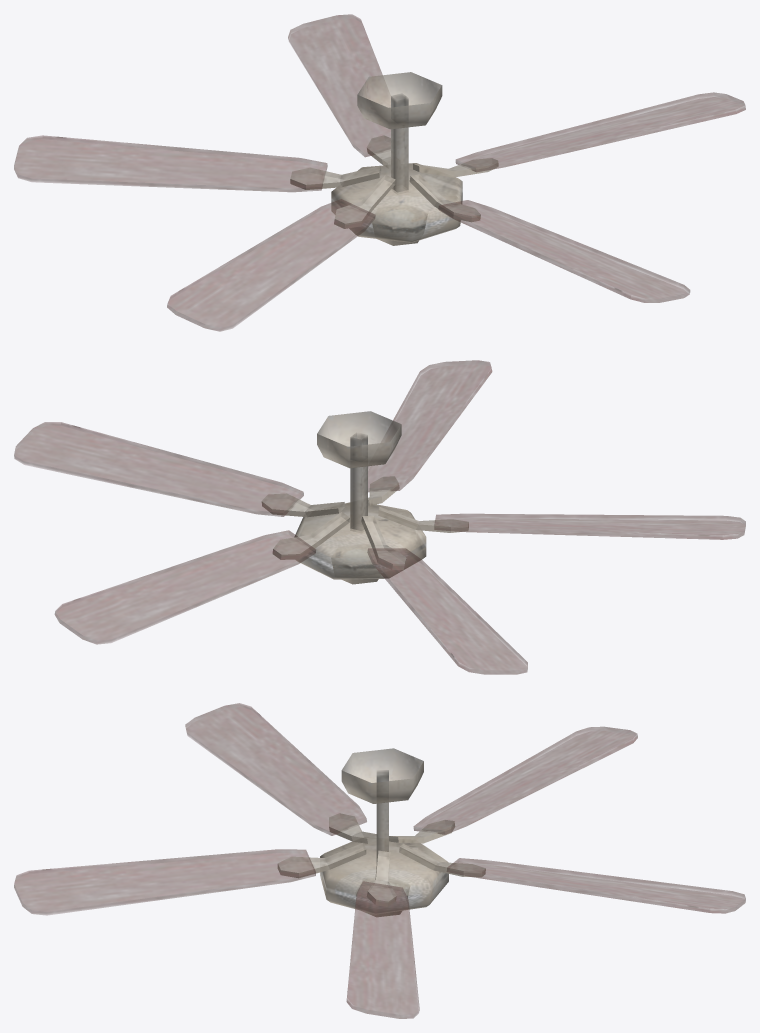
The model's file is Ceiling_Fan.glb.
3 views of the same model, one above another, from view 1: azimuth 30°, elevation 25°; view 2: azimuth 150°, elevation 25°; view 3: azimuth 270°, elevation 25° (orthographic). The views are drawn at different scales.
Visible parts, largest first — view 1: Ceiling_Fan_Blades, Ceiling_Fan; view 2: Ceiling_Fan_Blades, Ceiling_Fan; view 3: Ceiling_Fan_Blades, Ceiling_Fan.
Part boxes in pixels (bbox=[...]): Ceiling_Fan_Blades: bbox=[14, 14, 745, 331]; Ceiling_Fan: bbox=[331, 72, 462, 245]; Ceiling_Fan_Blades: bbox=[14, 360, 745, 674]; Ceiling_Fan: bbox=[294, 411, 426, 584]; Ceiling_Fan_Blades: bbox=[14, 703, 745, 1018]; Ceiling_Fan: bbox=[320, 748, 448, 916].
Bounding box in the file's own units: 1.99 × 0.4322 × 2.02.
1 material, 1 textured.
